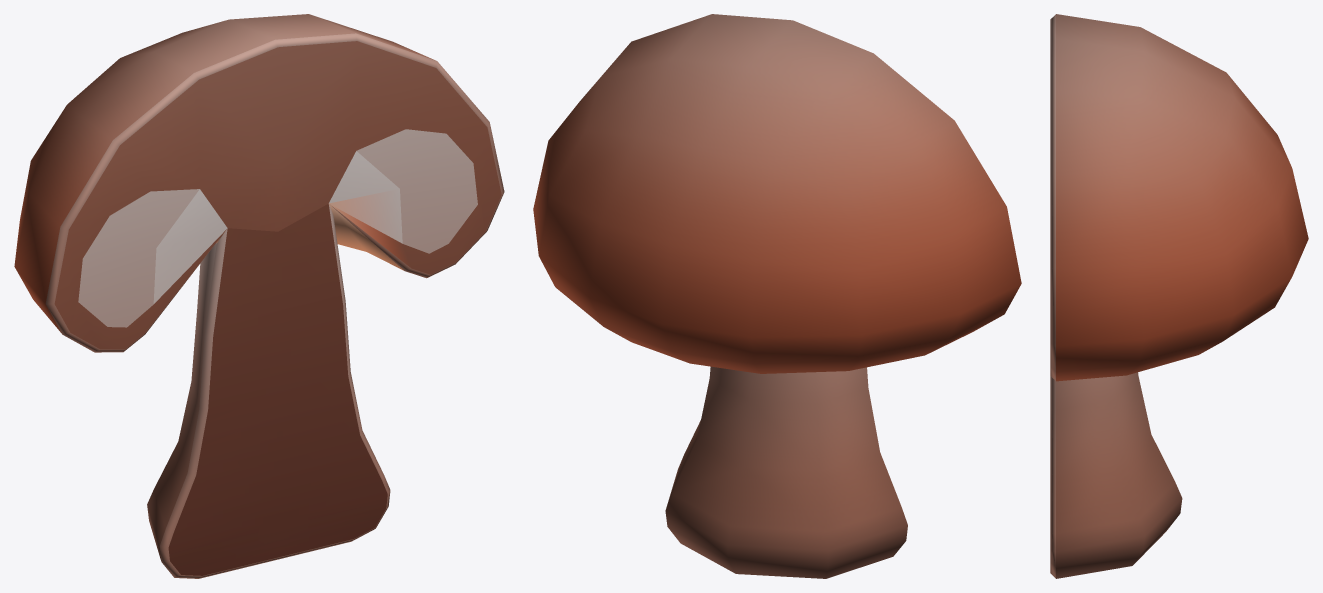
File: mushroom_003.fbx
3 renders of one model, left to right at view 1: azimuth 30°, elevation 25°; view 2: azimuth 150°, elevation 25°; view 3: azimuth 270°, elevation 25°, orthographic. The views are drawn at different scales.
Parts seen in each view (by area): view 1: mushroom_003; view 2: mushroom_003; view 3: mushroom_003.
Part boxes in pixels (x1,y1,x2,y2): mushroom_003: [14, 14, 504, 578]; mushroom_003: [533, 14, 1021, 578]; mushroom_003: [1050, 14, 1308, 578].
Bounding box in the file's own units: 6.31 × 3.21 × 6.84.
